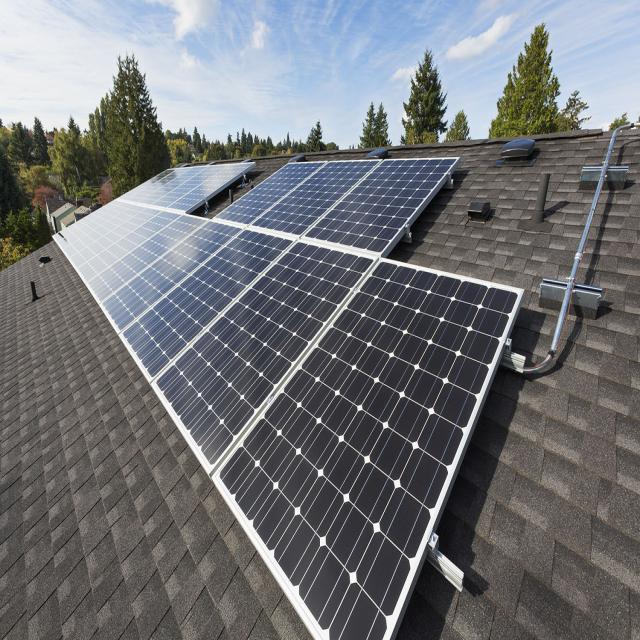clean-solar-panel: (56, 158, 522, 639)
